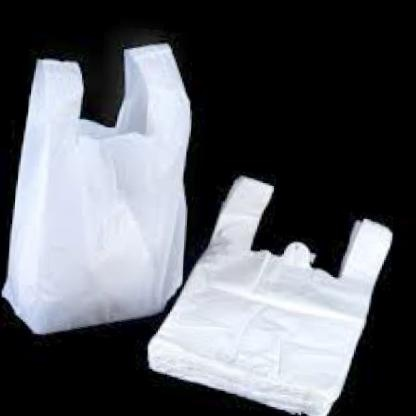trash: (148, 176, 391, 415), (3, 44, 190, 333)
